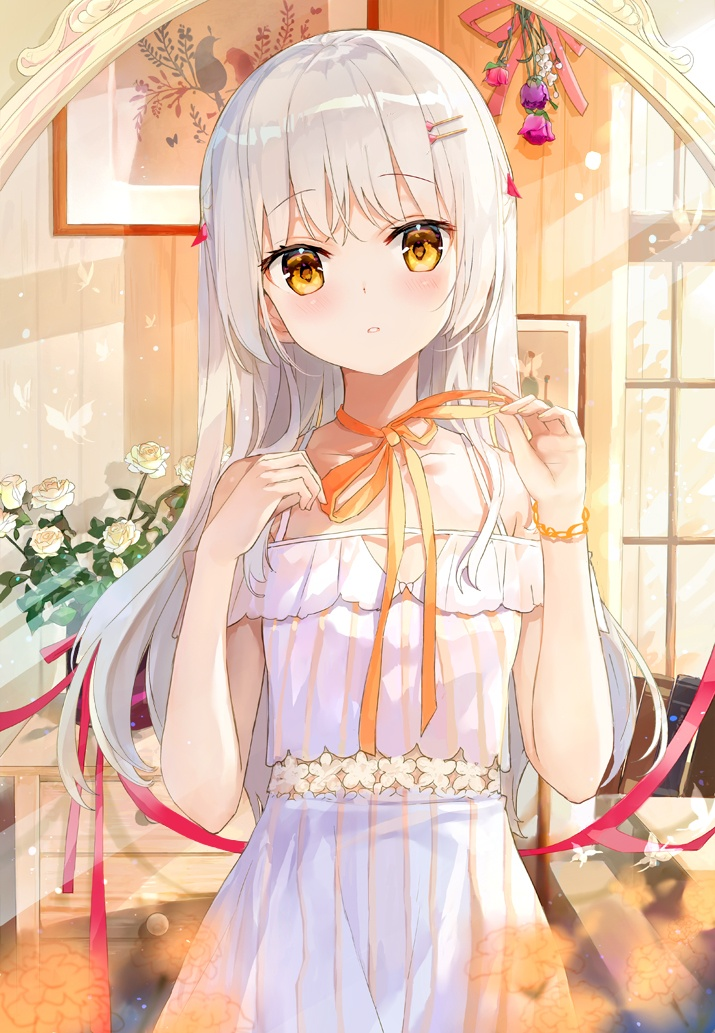纸片人正脸: (197, 23, 513, 383)
